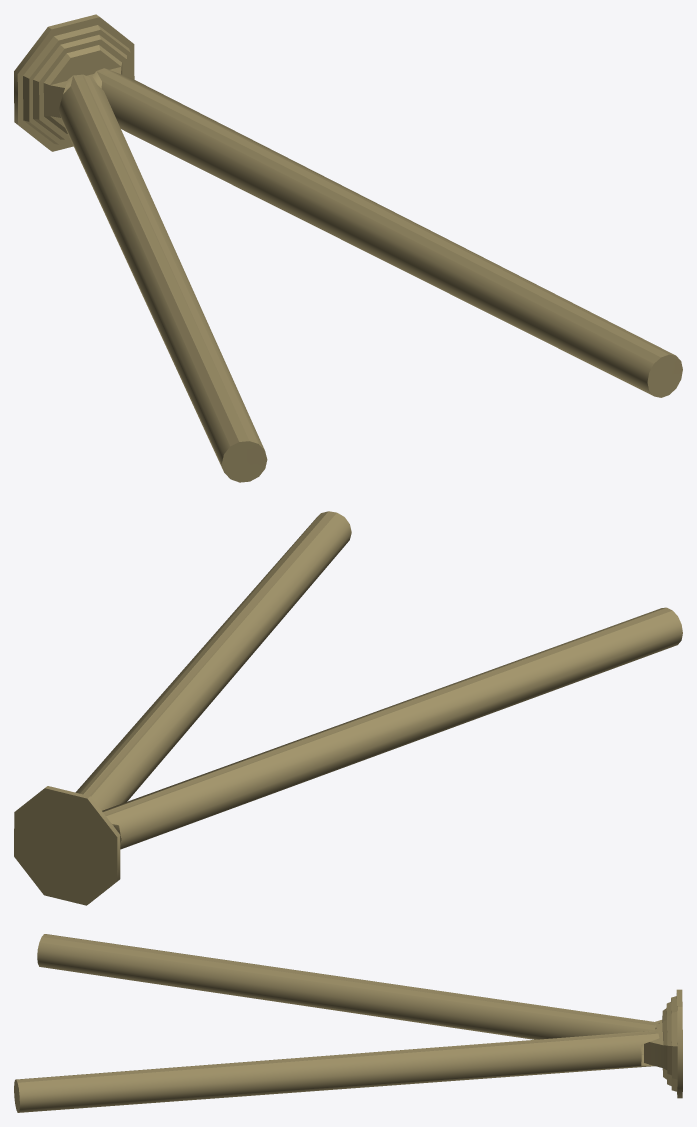
File: halterung.fbx
The picture shows the model from 3 angles, top to bottom: view 1: azimuth 30°, elevation 25°; view 2: azimuth 150°, elevation 25°; view 3: azimuth 270°, elevation 25°; orthographic projection. The views are drawn at different scales.
Parts seen in each view (by area): view 1: Handtuchhalter:HalterungShape; view 2: Handtuchhalter:HalterungShape; view 3: Handtuchhalter:HalterungShape.
Boxes of the visible parts, left/top/right/bottom form: Handtuchhalter:HalterungShape: left=14, top=14, right=682, bottom=482; Handtuchhalter:HalterungShape: left=14, top=511, right=682, bottom=905; Handtuchhalter:HalterungShape: left=14, top=934, right=682, bottom=1112.
Bounding box in the file's own units: 128 × 34.13 × 227.
